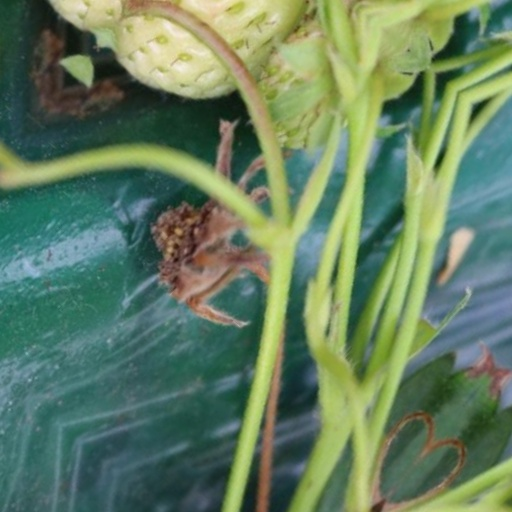Gray Mold: (218, 168, 369, 349)
